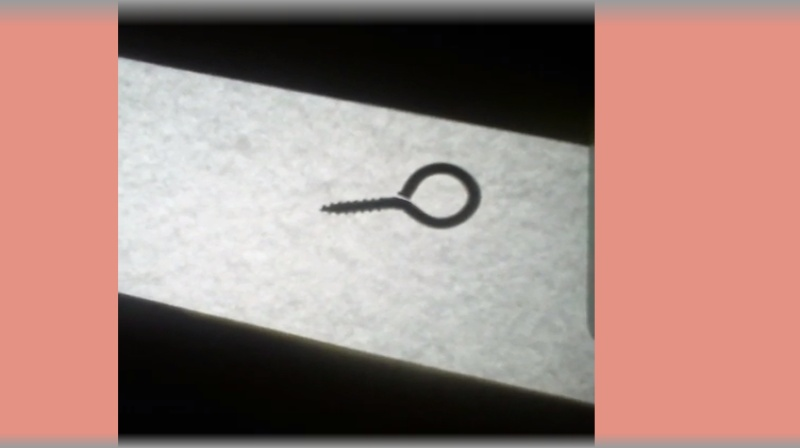O001: (317, 159, 485, 232)
